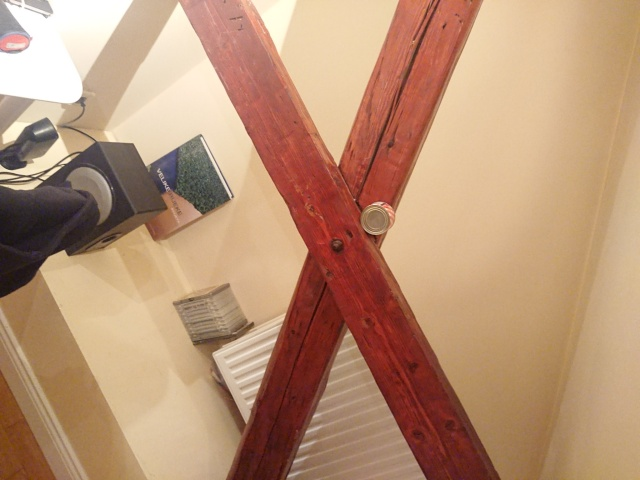Podravka Luncheon Meat 150g: (359, 200, 397, 237)
